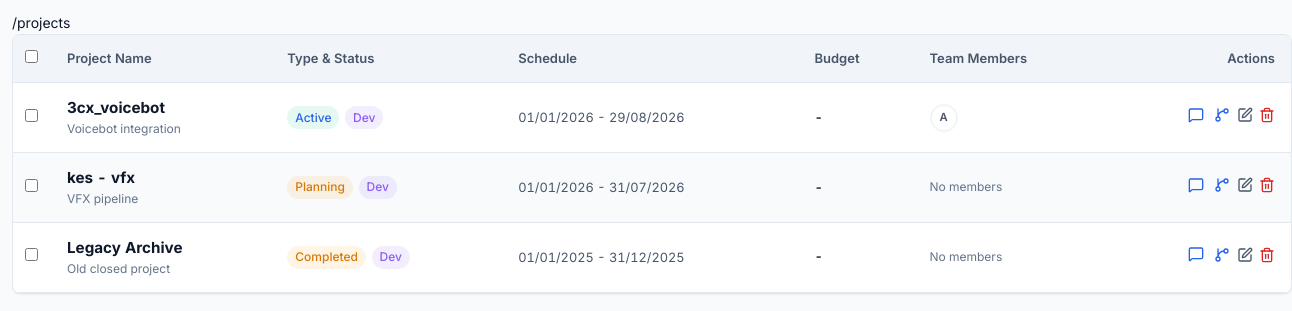
Test case: ProjectsListView › shows toast notification and stays on /projects when clicking a Completed project row
Click the text "Legacy Archive": (125, 247) [67,238,182,257]
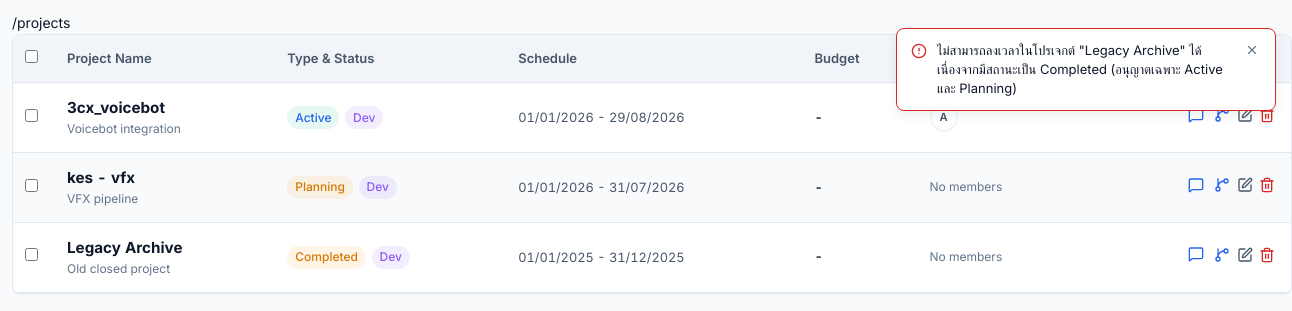
Check: the text with test id "current-route" reads "/projects", box [12,14,70,31]
Check: the message shows "Legacy Archive", box [937,42,1223,96]
Check: the message shows "Completed", box [937,42,1223,96]
